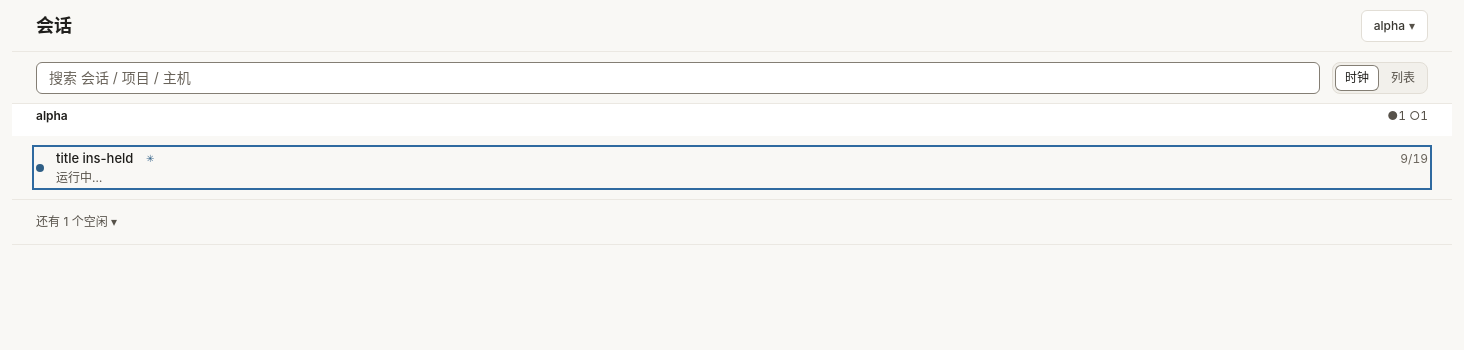
HomeList hold against the painted structure › lets a fold toggle take effect while a row holds focus
Expected: the element showing "alpha ●1 ○1 title ins-held ✳ 9/19 运行中… 还有 1 个空闲 ▾" is shown, [12,104,1452,269]
Expected: the text "title ins-idle" is not shown
What coordinates should you click on to do the following:
click the button with test id "home-idle-fold"
I would click on:
 (93, 222)
Its box is [12,200,1452,244].
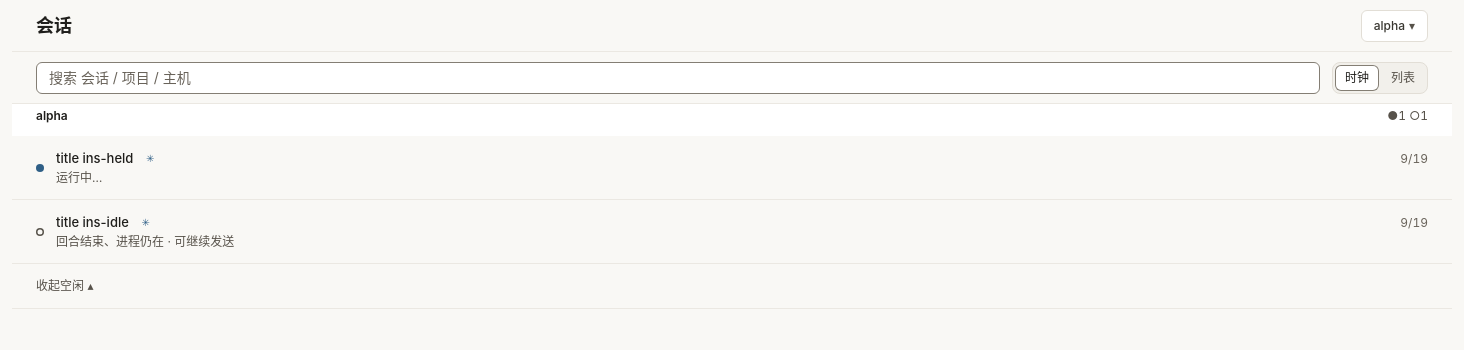
Expected: the text "title ins-idle" is shown, [56,213,129,232]
